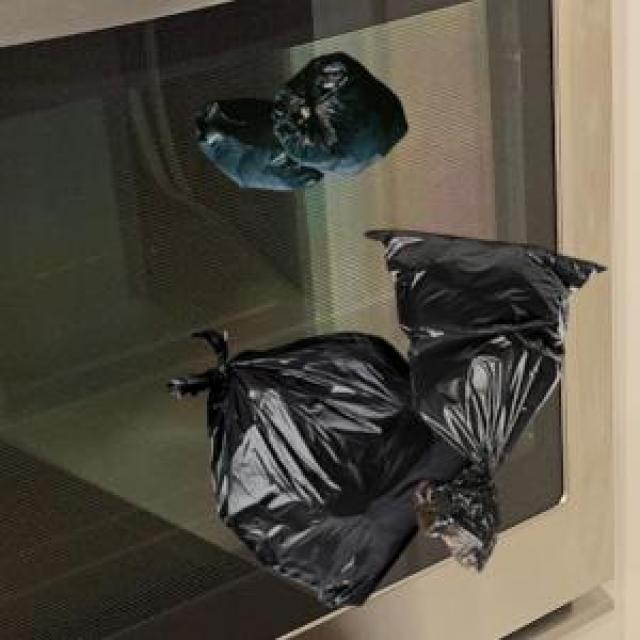waste: (170, 230, 598, 607), (199, 52, 408, 187)
